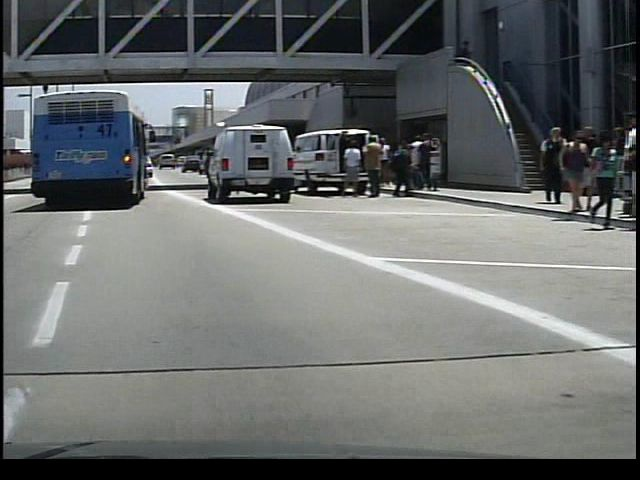person: (334, 134, 358, 196), (358, 136, 381, 200)
